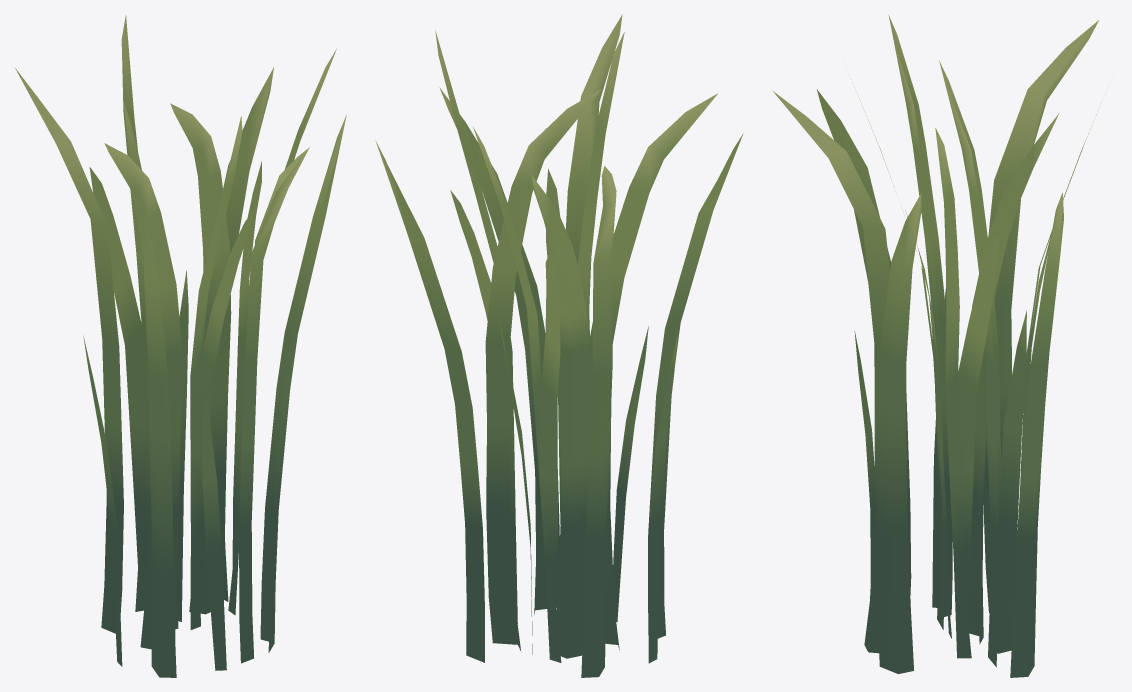
The model's file is grass-open-stems.glb.
3 views of the same model, side by side, from view 1: azimuth 30°, elevation 25°; view 2: azimuth 150°, elevation 25°; view 3: azimuth 270°, elevation 25° (orthographic). The views are drawn at different scales.
Parts seen in each view (by area): view 1: grass-open-stems runtime mesh; view 2: grass-open-stems runtime mesh; view 3: grass-open-stems runtime mesh.
Part boxes in pixels (bbox=[...]): grass-open-stems runtime mesh: bbox=[15, 15, 346, 677]; grass-open-stems runtime mesh: bbox=[375, 14, 743, 677]; grass-open-stems runtime mesh: bbox=[773, 15, 1101, 677].
Size of the model in its own units: 0.2007 by 0.42 by 0.2227.
1 material, 1 textured.
